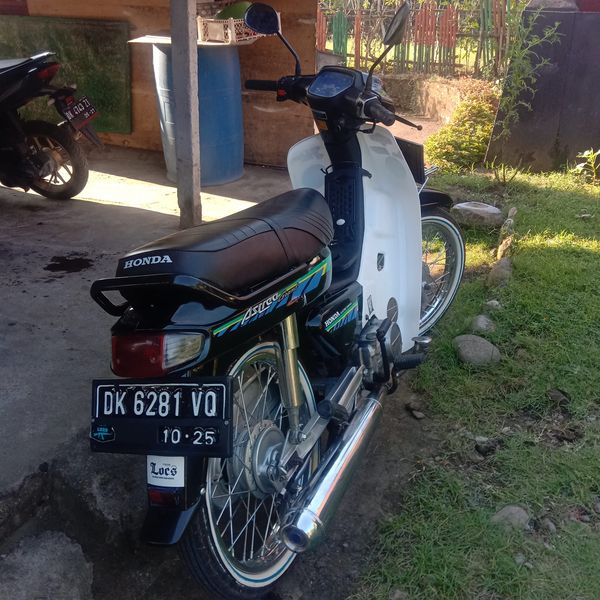plate: (93, 382, 231, 452)
